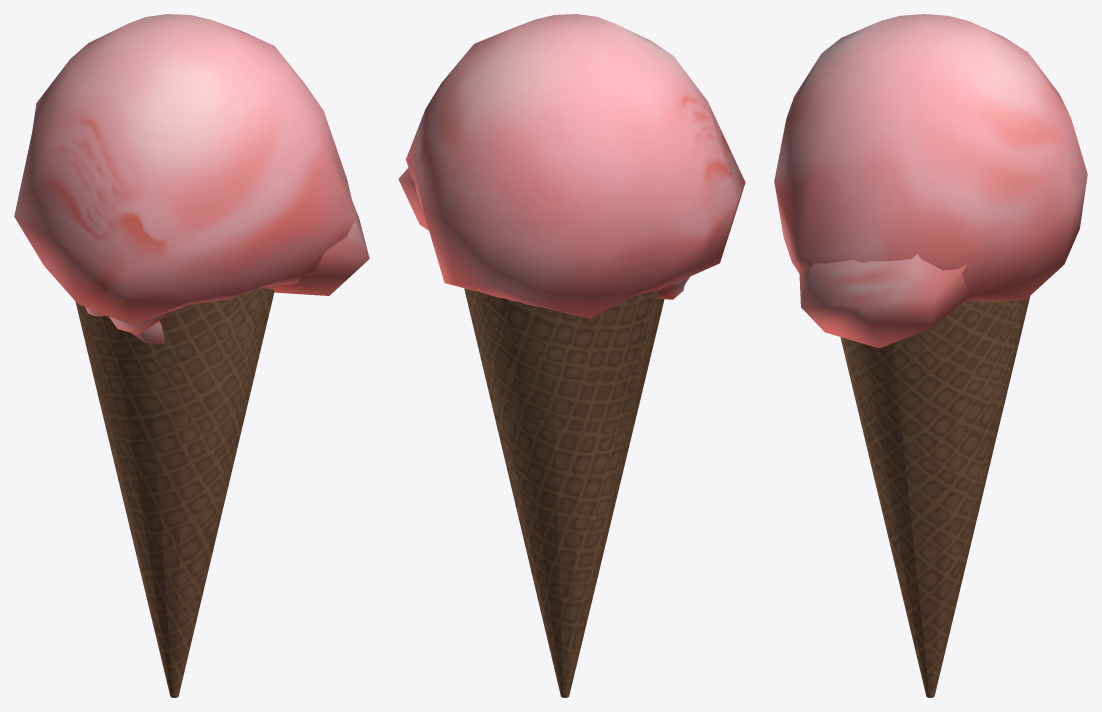
File: icecreamStrawberry.fbx
3 renders of one model, left to right at view 1: azimuth 30°, elevation 25°; view 2: azimuth 150°, elevation 25°; view 3: azimuth 270°, elevation 25°, orthographic.
Parts seen in each view (by area): view 1: icecreamStrawberry; view 2: icecreamStrawberry; view 3: icecreamStrawberry.
Boxes of the visible parts, x1,y1,x2,y2 form: icecreamStrawberry: [14, 14, 369, 697]; icecreamStrawberry: [398, 14, 745, 697]; icecreamStrawberry: [774, 14, 1087, 697].
Bounding box in the file's own units: 24.93 × 50.37 × 21.42.
